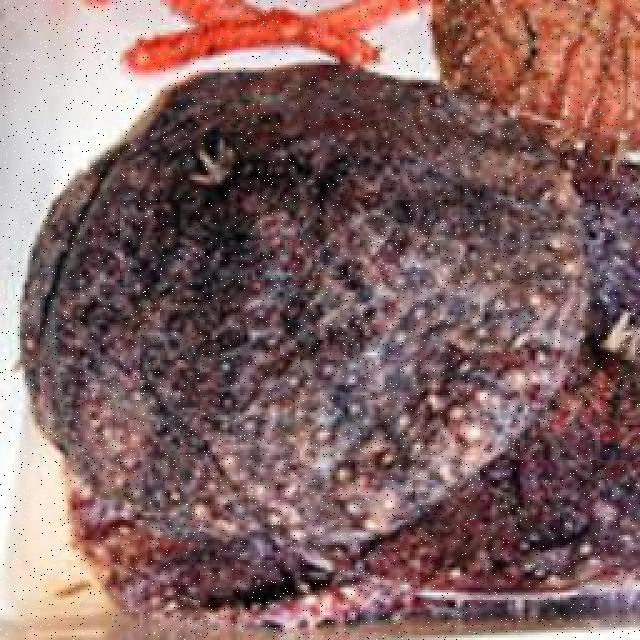reefs: (22, 66, 638, 627), (433, 1, 638, 158), (119, 1, 427, 74)
